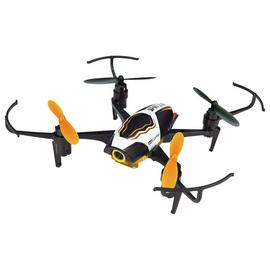drone: (4, 54, 267, 216)
